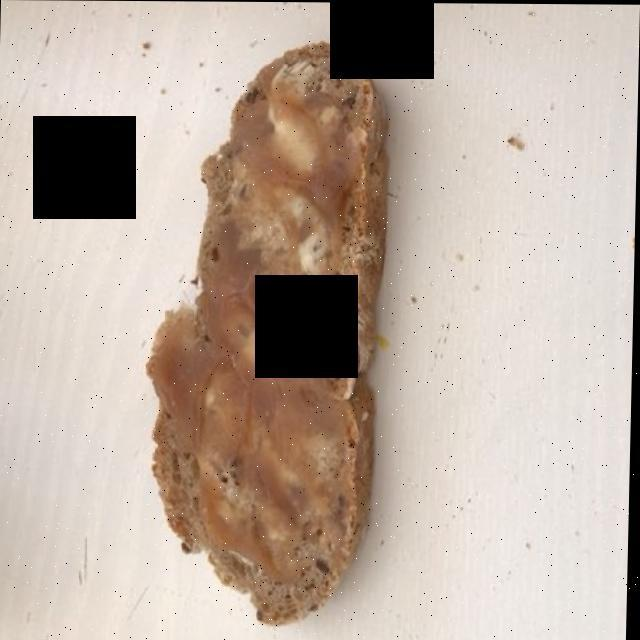bread: (153, 47, 383, 616)
butter: (205, 97, 331, 530)
